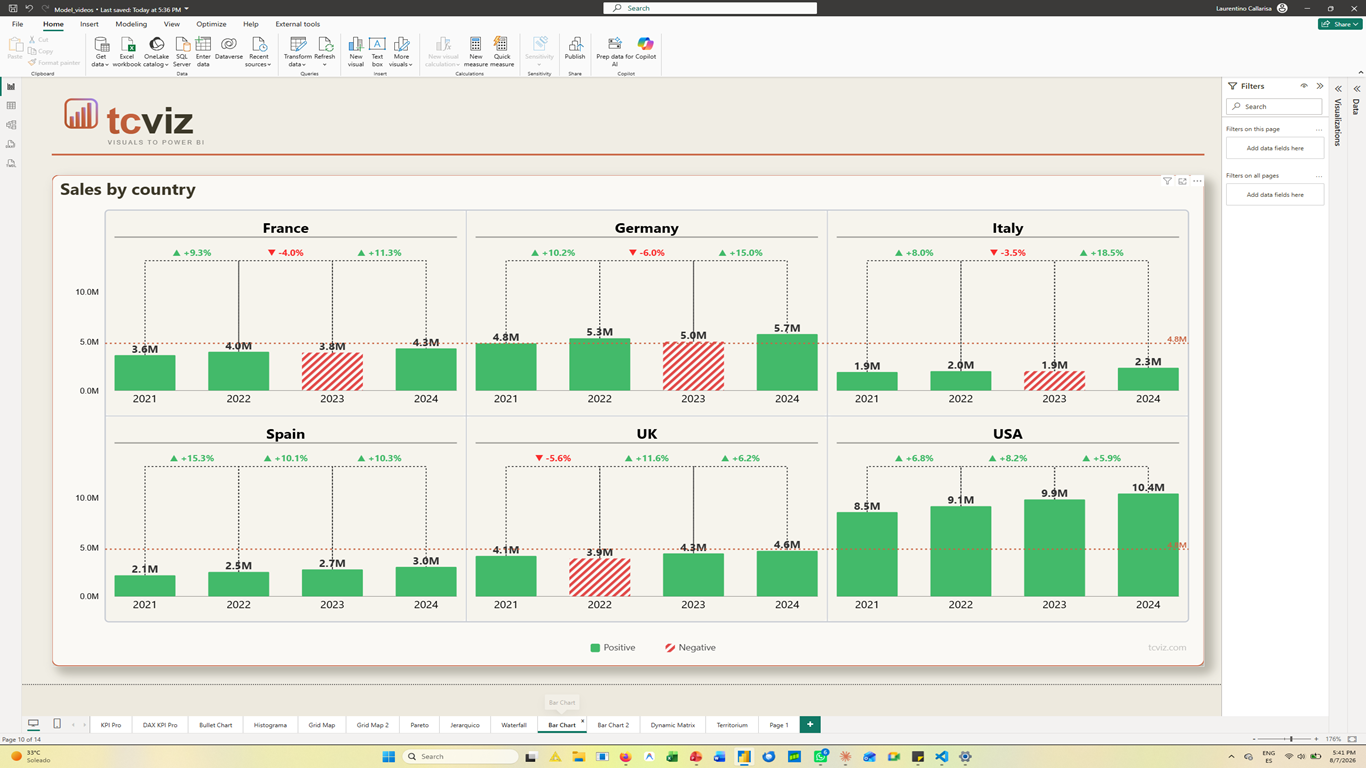

This screenshot's page, from the dashboard's own definition file:
{"tool":"powerbi","page":{"name":"Page 1","canvas":[1280,720],"ordinal":0},"visuals":[{"type":"barChartVariation98877665544332211","box":[10,0,280,280],"z":0},{"type":"barChartVariation98877665544332211","fields":{"series":["SalesData.Country"],"measure":["Sum(SalesData.Sales)"],"category":["SalesData.Year"]},"box":[9.9,14.2,1261.2,691.5],"z":1}]}

Visuals, with their boxes on the page's 1280x720 design canvas (x1, y1, x2, y2). These are canvas units, not pixel positions in the 1366x768 screenshot, which may show the page scaled, cropped or inside an application window:
barChartVariation98877665544332211: bbox=[10, 0, 290, 280]
barChartVariation98877665544332211 - SalesData.Country x Sum(SalesData.Sales): bbox=[10, 14, 1271, 706]
